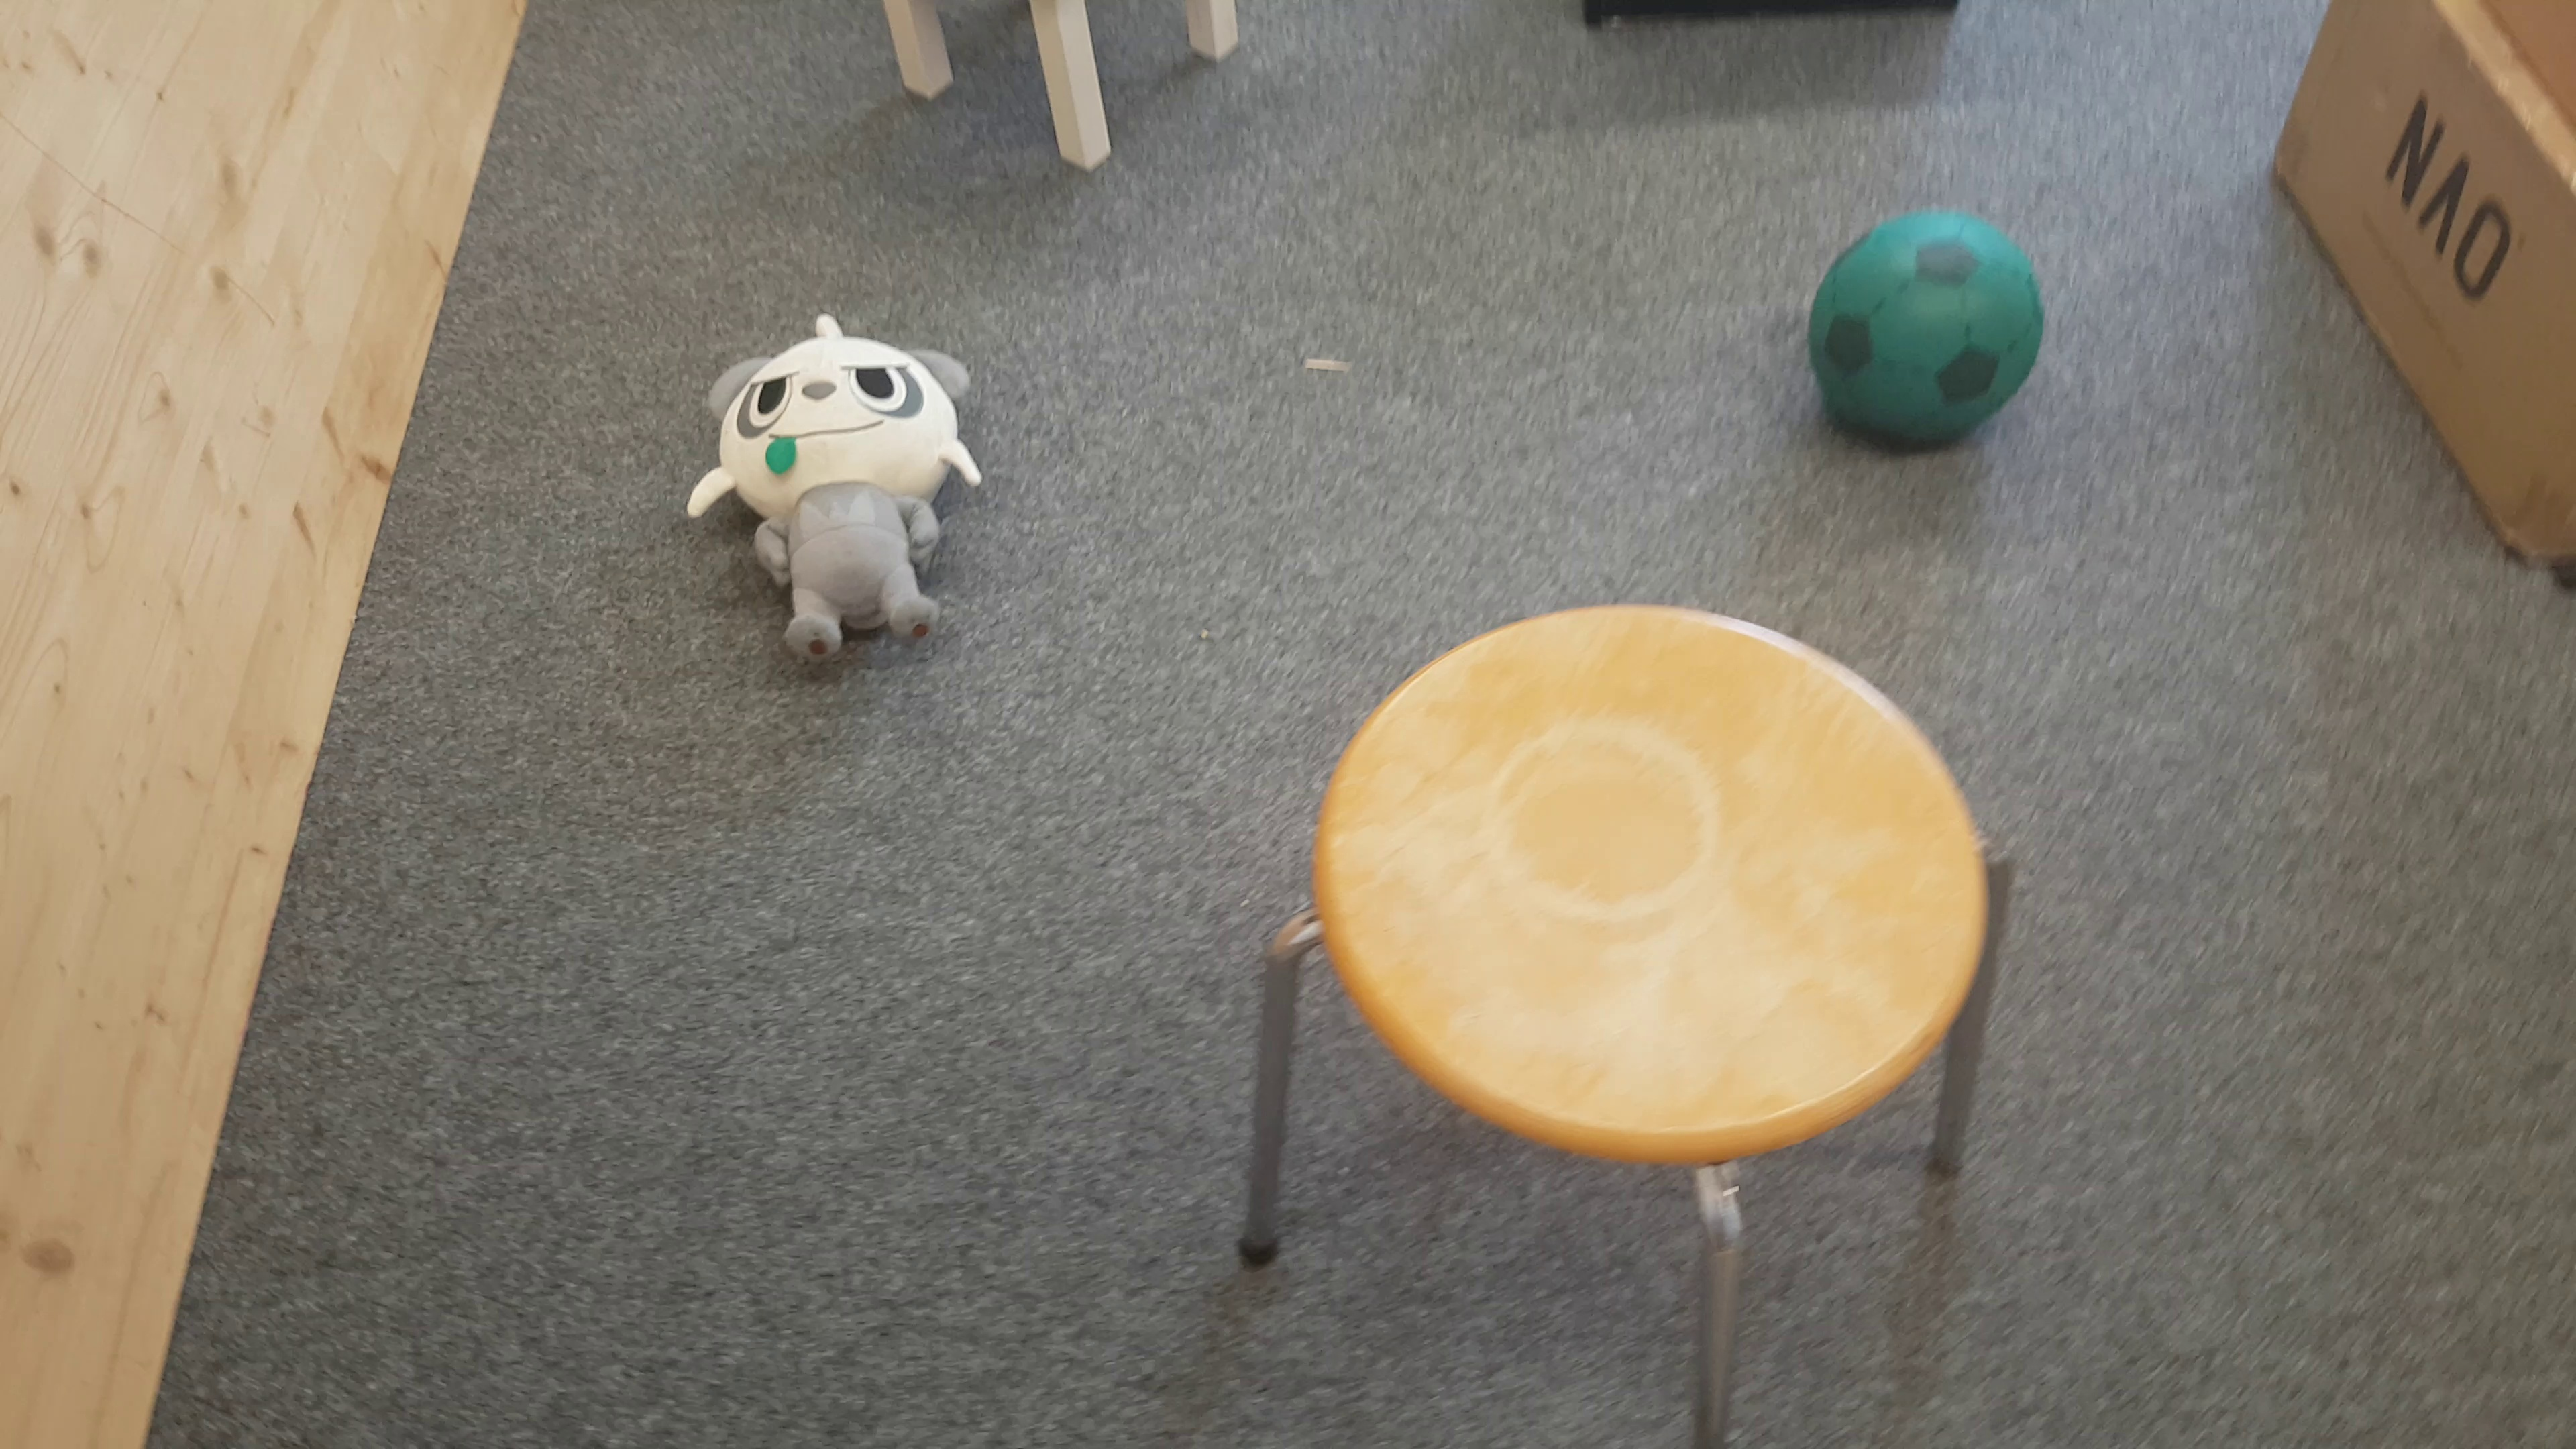grasp: (683, 313, 982, 665)
kick: (1815, 211, 2045, 467)
push: (1585, 2, 1957, 37)
